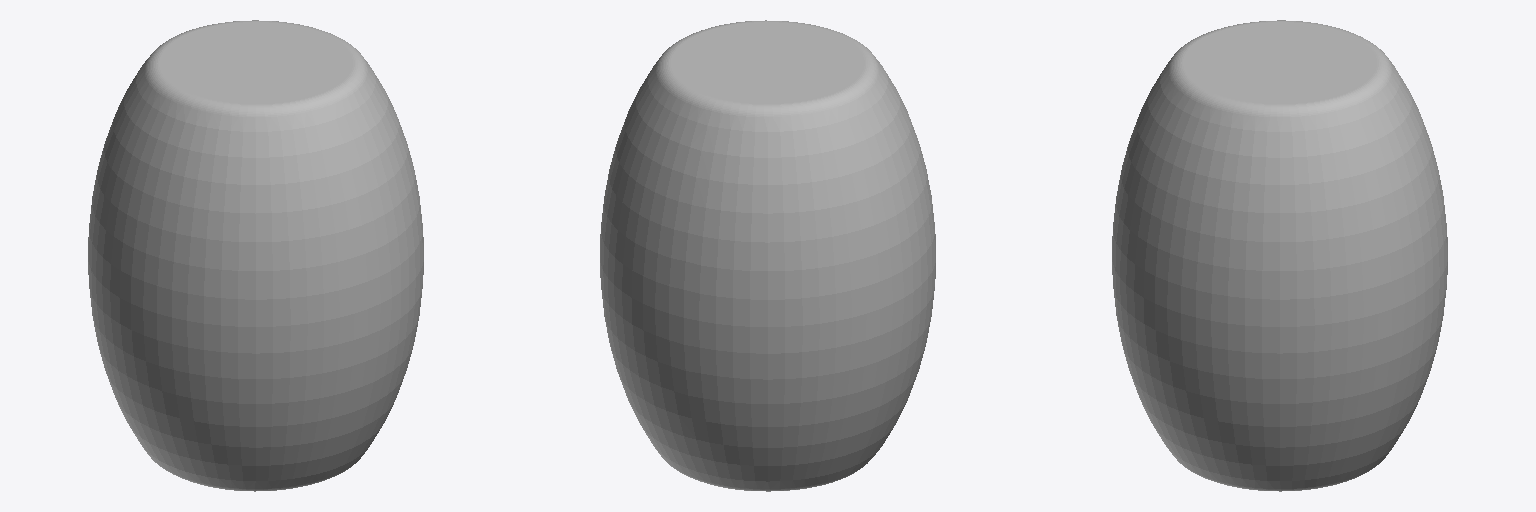
URDF robot description (root):
<robot name="root">
  <link name="link_Barrell_convex_piece_0">
    <inertial>
      <origin xyz="0 0 0" rpy="0 0 0"/>
      <mass value="2.41E-01"/>
      <inertia ixx="2.06E-04" ixy="-1.48E-09" ixz="4.59E-10" iyy="2.06E-04" iyz="-7.10E-10" izz="1.36E-04"/>
    </inertial>
    <visual>
      <origin xyz="0 0 0" rpy="0 0 0"/>
      <geometry>
        <mesh filename="Barrell_convex_piece_0.obj" scale="1.0000E+00 1.0000E+00 1.0000E+00"/>
      </geometry>
      <material name="">
        <color rgba="7.50E-01 7.50E-01 7.50E-01 1"/>
      </material>
    </visual>
    <collision>
      <origin xyz="0 0 0" rpy="0 0 0"/>
      <geometry>
        <mesh filename="Barrell_convex_piece_0.obj" scale="1.0000E+00 1.0000E+00 1.0000E+00"/>
      </geometry>
    </collision>
  </link>
</robot>

--- What the picture shows (computed from the rendered views, not written in the file) ---
Views: 3 orthographic renders of the robot side by side, from view 1: azimuth 30°, elevation 25°; view 2: azimuth 150°, elevation 25°; view 3: azimuth 270°, elevation 25°.
Robot: root — 1 links, 0 joints (none); root link link_Barrell_convex_piece_0; default pose: all joints at 0.
Links seen in each view (by area): view 1: link_Barrell_convex_piece_0; view 2: link_Barrell_convex_piece_0; view 3: link_Barrell_convex_piece_0.
Boxes of the visible links, bbox=[...] form: link_Barrell_convex_piece_0: bbox=[88, 20, 423, 491]; link_Barrell_convex_piece_0: bbox=[600, 20, 935, 491]; link_Barrell_convex_piece_0: bbox=[1112, 20, 1447, 491].
Bounding box of the posed robot: 0.0734 × 0.0734 × 0.0928 m (x, y, z).
Meshes: 1 distinct files referenced, 1 mesh visuals loaded (1 OBJ).
